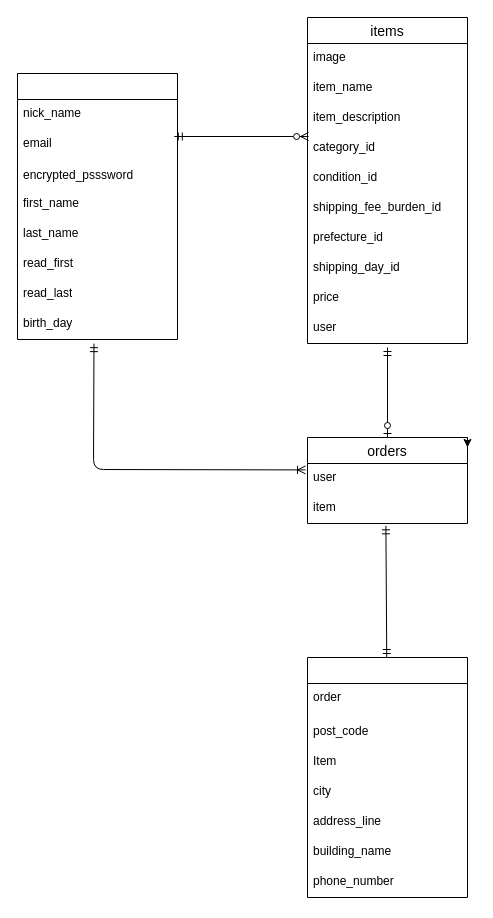
The diagram is 493 pixels wide and 918 high, and some of its shapes have lost their labels. Each missing label, with the box of its shape:
order_addresses: (306, 656, 468, 898)
users: (16, 72, 178, 340)
